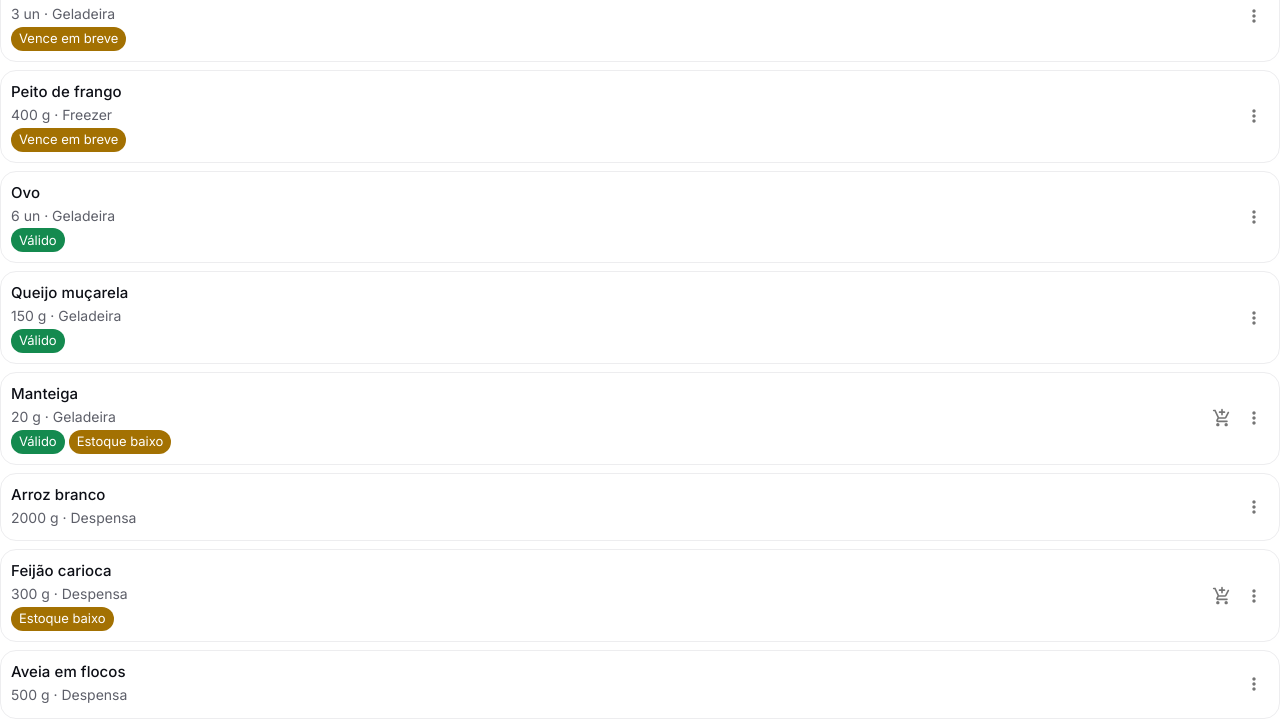
Test: PantryPage › opens the edit dialog for an existing item and saves changes
(page scrolled)
Expected: the text "Arroz branco" is shown, [11,485,106,504]
Click the button named "Mais ações" in the row of "Arroz branco" at [1254, 507], box [1239,492,1269,522]
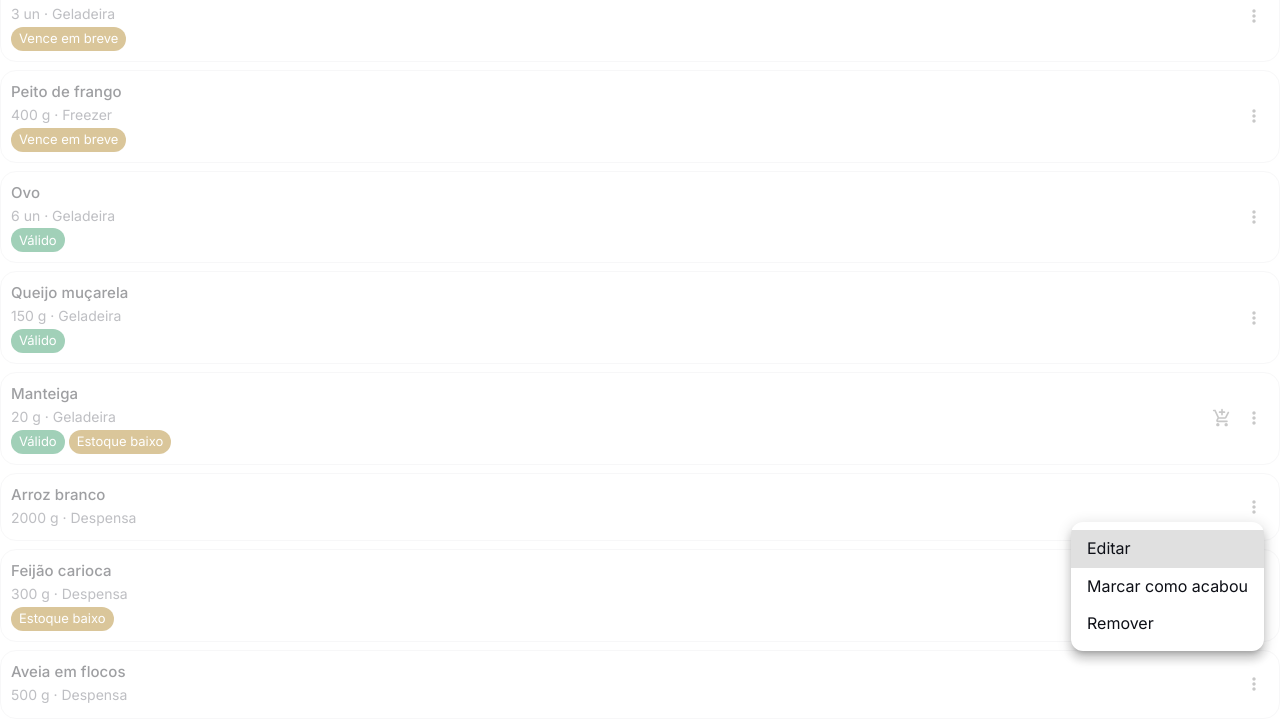
Click the menu item "Editar" at [1168, 549], box [1071,530,1264,568]
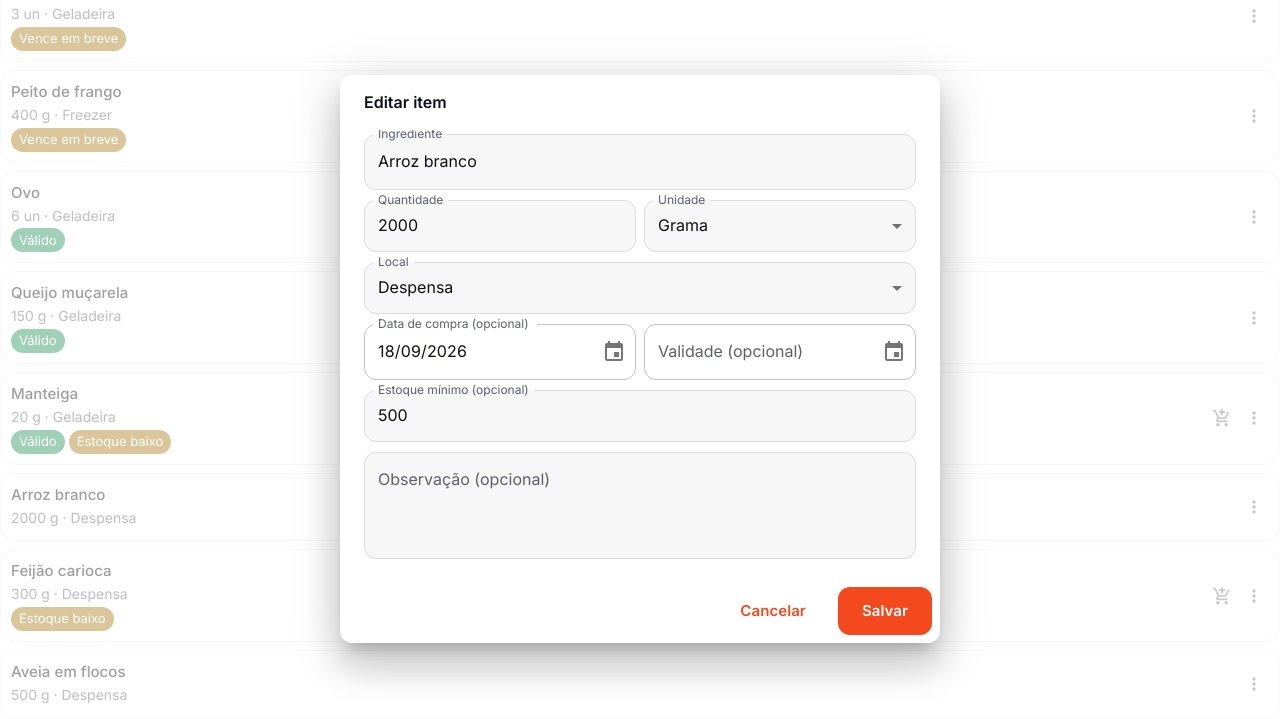
Click the button "Salvar" at [885, 611], box [838,587,932,635]
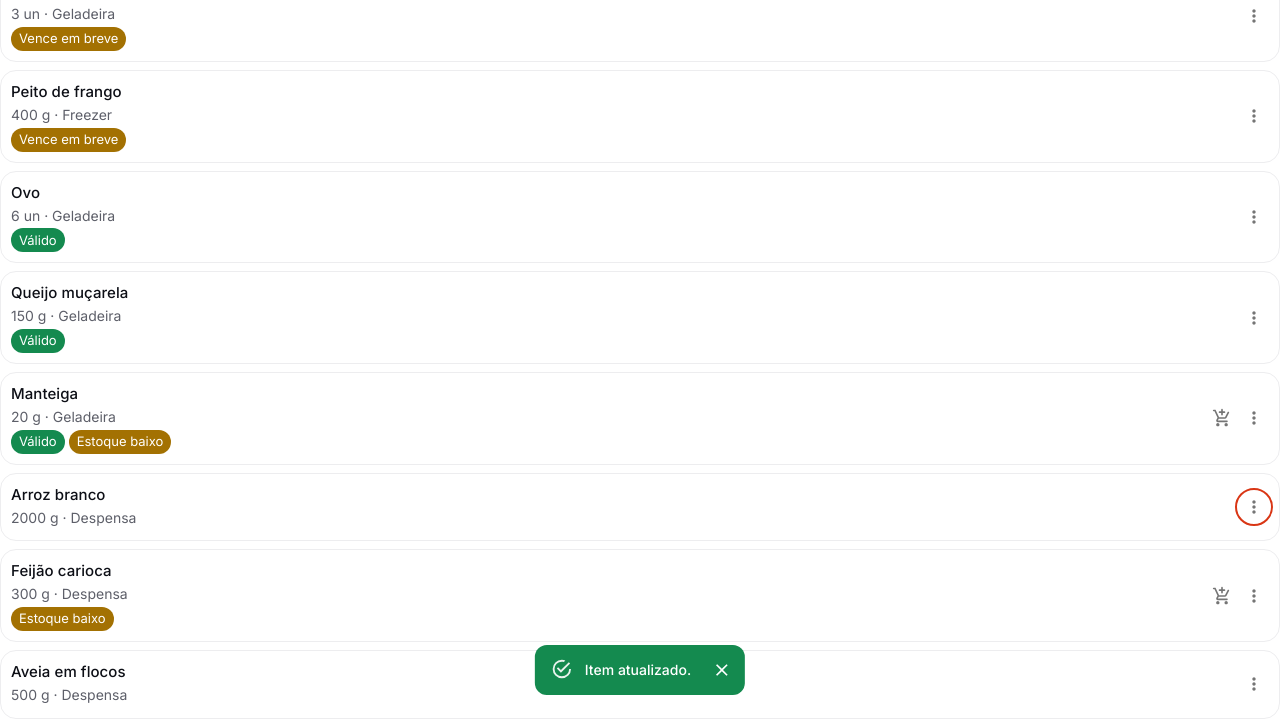
Expected: the text "Item atualizado." is shown, [585,661,691,678]
